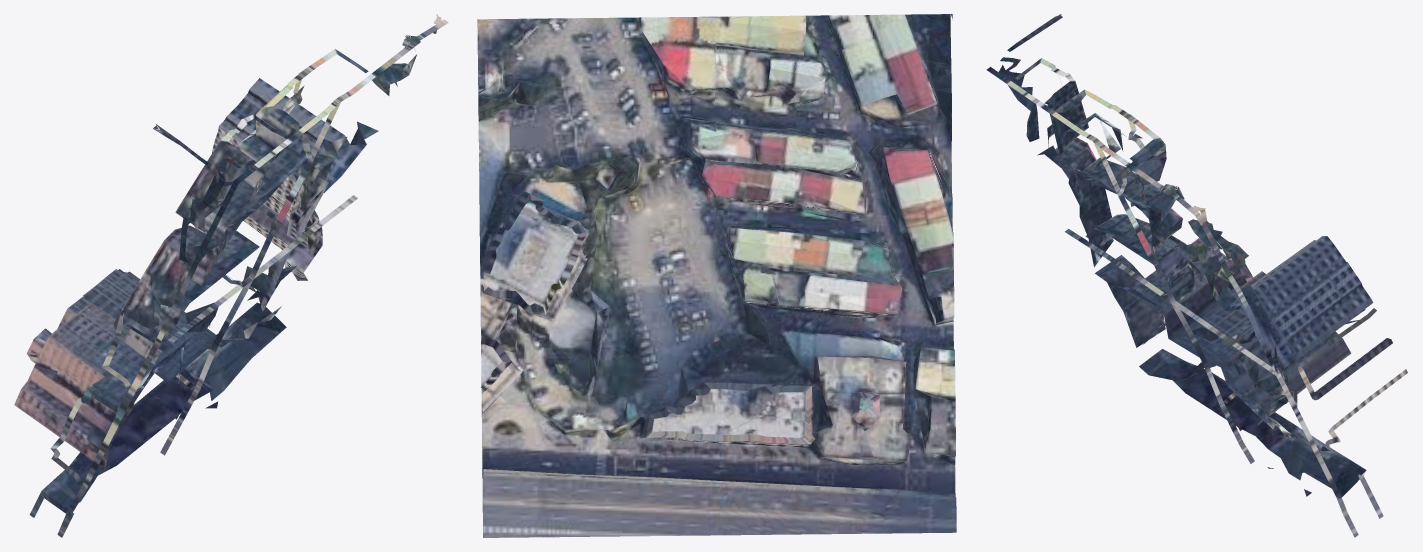
3 renders of one model, left to right at view 1: azimuth 30°, elevation 25°; view 2: azimuth 150°, elevation 25°; view 3: azimuth 270°, elevation 25°, orthographic. The views are drawn at different scales.
Bounding box in the file's own units: 158 × 152 × 145.
1 material, 1 textured.
